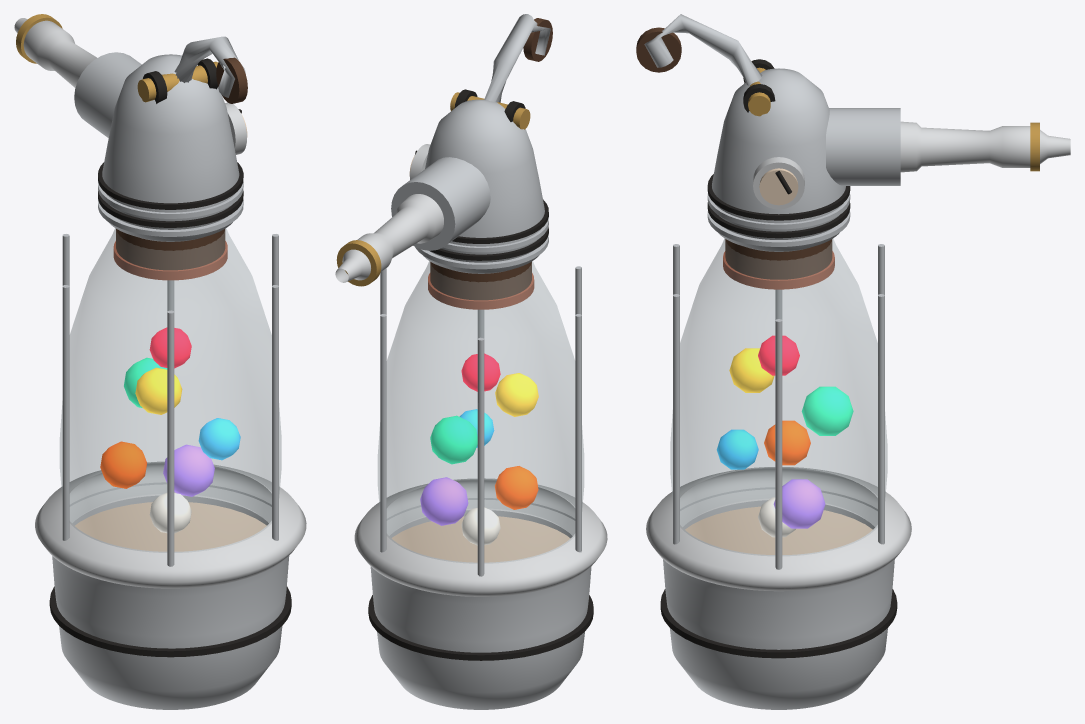
The model's file is siphon.glb.
3 views of the same model, side by side, from view 1: azimuth 30°, elevation 25°; view 2: azimuth 150°, elevation 25°; view 3: azimuth 270°, elevation 25° (orthographic). The views are drawn at different scales.
Visible parts, largest first — view 1: bottle, boot, boot-lip, head, well, valve, collar, nozzle, boot-line, rib-4, rib-3, ball-5 (+17 smaller); view 2: bottle, boot, boot-lip, head, well, valve, nozzle, collar, boot-line, lever, rib-2, ball-2 (+16 smaller); view 3: bottle, boot, boot-lip, head, nozzle, valve, well, collar, boot-line, lever, ball-2, rib-0 (+15 smaller).
Boxes of the visible parts, bbox=[...] form: bottle: bbox=[60, 228, 281, 552]; boot: bbox=[52, 482, 289, 709]; boot-lip: bbox=[35, 461, 306, 588]; head: bbox=[102, 54, 239, 241]; well: bbox=[75, 502, 266, 551]; valve: bbox=[74, 52, 141, 137]; collar: bbox=[116, 229, 225, 270]; nozzle: bbox=[14, 18, 96, 87]; boot-line: bbox=[49, 586, 291, 657]; rib-4: bbox=[167, 310, 174, 566]; rib-3: bbox=[62, 285, 69, 540]; ball-5: bbox=[163, 444, 214, 496]; bottle: bbox=[378, 261, 583, 563]; boot: bbox=[370, 498, 591, 709]; boot-lip: bbox=[354, 478, 607, 596]; head: bbox=[423, 99, 544, 273]; well: bbox=[391, 516, 570, 562]; valve: bbox=[391, 157, 490, 250]; nozzle: bbox=[335, 194, 443, 282]; collar: bbox=[430, 261, 531, 300]; boot-line: bbox=[368, 595, 593, 660]; lever: bbox=[484, 14, 550, 102]; rib-2: bbox=[477, 337, 484, 576]; ball-2: bbox=[430, 415, 477, 464]; bottle: bbox=[670, 239, 887, 555]; boot: bbox=[663, 487, 894, 709]; boot-lip: bbox=[646, 467, 911, 591]; head: bbox=[712, 68, 845, 251]; nozzle: bbox=[900, 121, 1070, 172]; valve: bbox=[826, 108, 900, 185]; well: bbox=[685, 506, 872, 554]; collar: bbox=[725, 239, 832, 279]; boot-line: bbox=[660, 589, 897, 658]; lever: bbox=[644, 14, 762, 85]; ball-2: bbox=[801, 386, 853, 435]; rib-0: bbox=[775, 319, 782, 569].
Size of the model in its own units: 0.164 by 0.4618 by 0.268.
